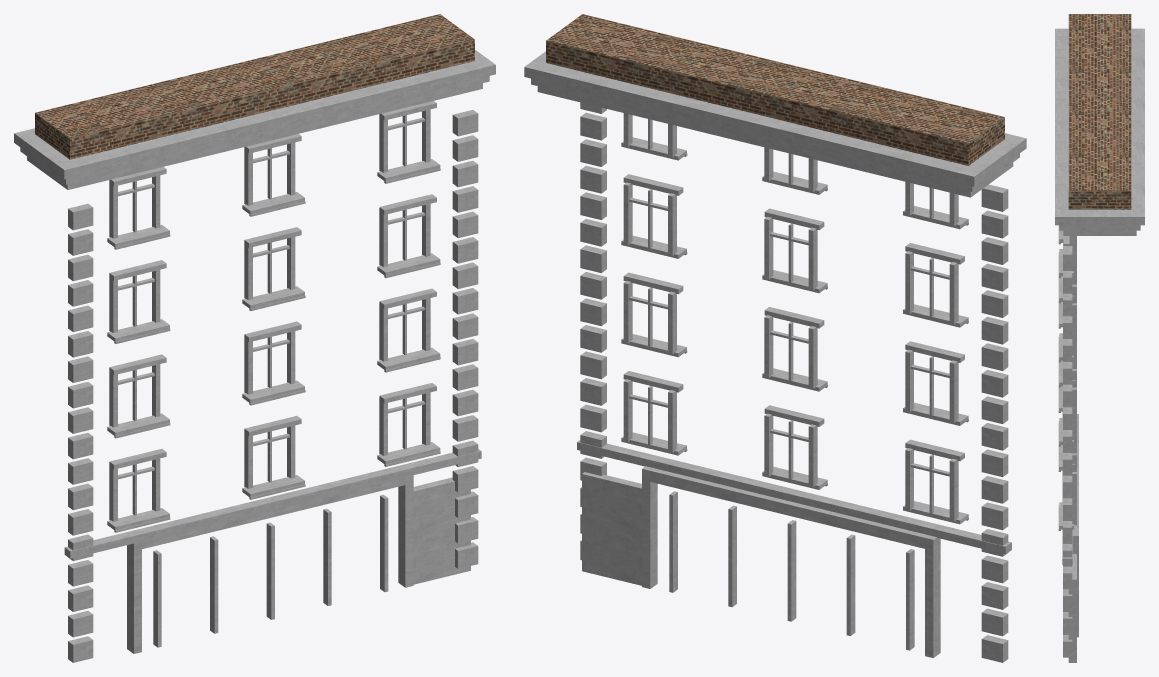
The model's file is facade_trim.fbx.
3 views of the same model, side by side, from view 1: azimuth 30°, elevation 25°; view 2: azimuth 150°, elevation 25°; view 3: azimuth 270°, elevation 25° (orthographic). The views are drawn at different scales.
Parts seen in each view (by area): view 1: facade_trim; view 2: facade_trim; view 3: facade_trim.
Boxes of the visible parts, x1,y1,x2,y2 form: facade_trim: [14, 14, 495, 662]; facade_trim: [524, 14, 1026, 662]; facade_trim: [1055, 14, 1144, 662].
Bounding box in the file's own units: 21.3 × 25 × 4.3.
2 materials, 2 textured.
